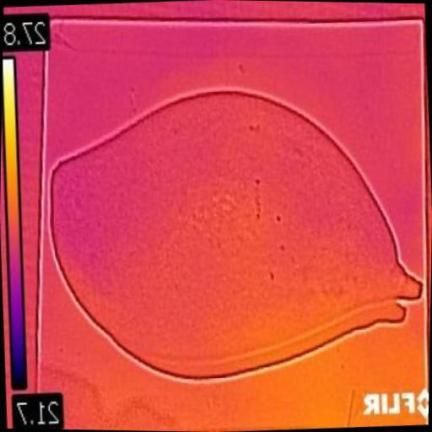mango: (54, 92, 421, 376)
